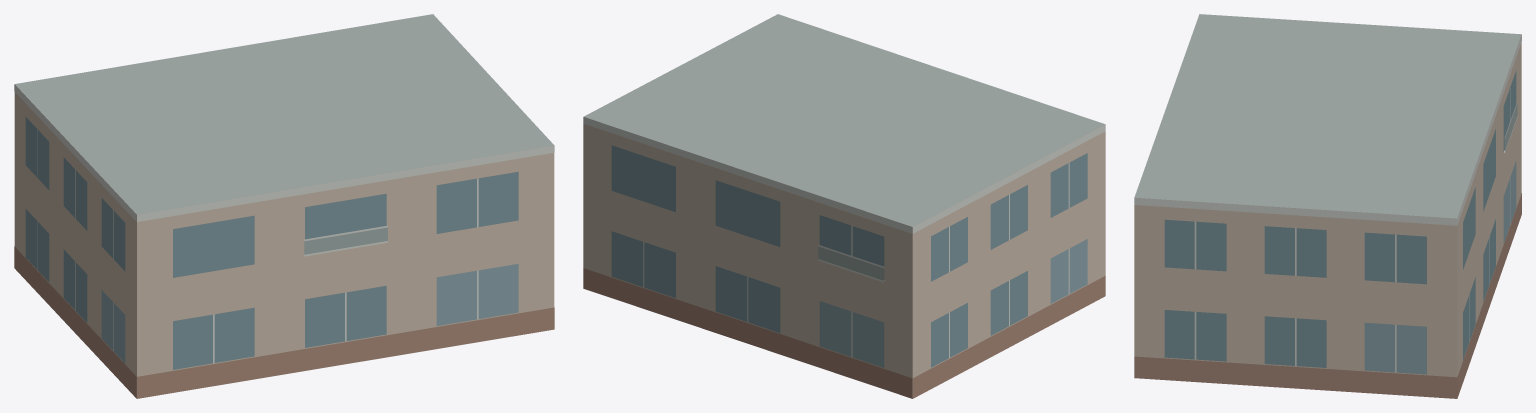
Rendered from survey-upis-32670380.glb.
3 renders of one model, left to right at view 1: azimuth 30°, elevation 25°; view 2: azimuth 150°, elevation 25°; view 3: azimuth 270°, elevation 25°, orthographic. The views are drawn at different scales.
Parts seen in each view (by area): view 1: survey-upis-32670380.tmp; view 2: survey-upis-32670380.tmp; view 3: survey-upis-32670380.tmp.
Part boxes in pixels (x1,y1,x2,y2): survey-upis-32670380.tmp: (14,14,554,398); survey-upis-32670380.tmp: (583,14,1105,398); survey-upis-32670380.tmp: (1134,14,1521,398).
Size of the model in its own units: 14.85 by 6.1 by 11.89.
